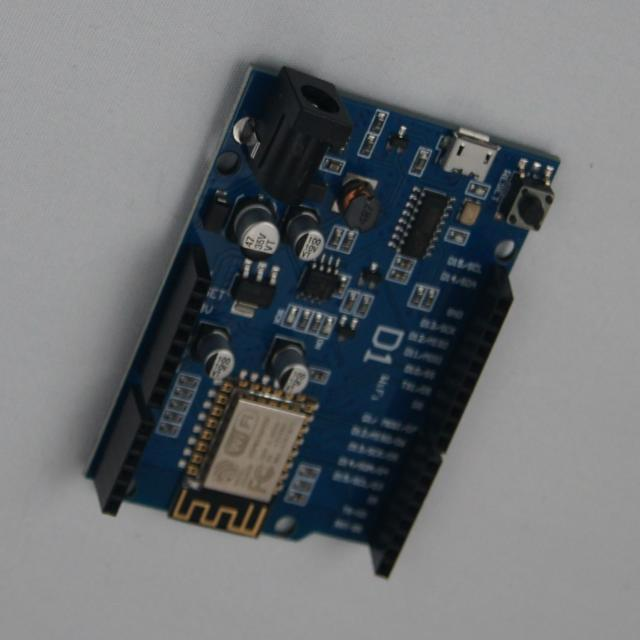Arduino Uno WiFi Shield: (87, 65, 560, 577)
